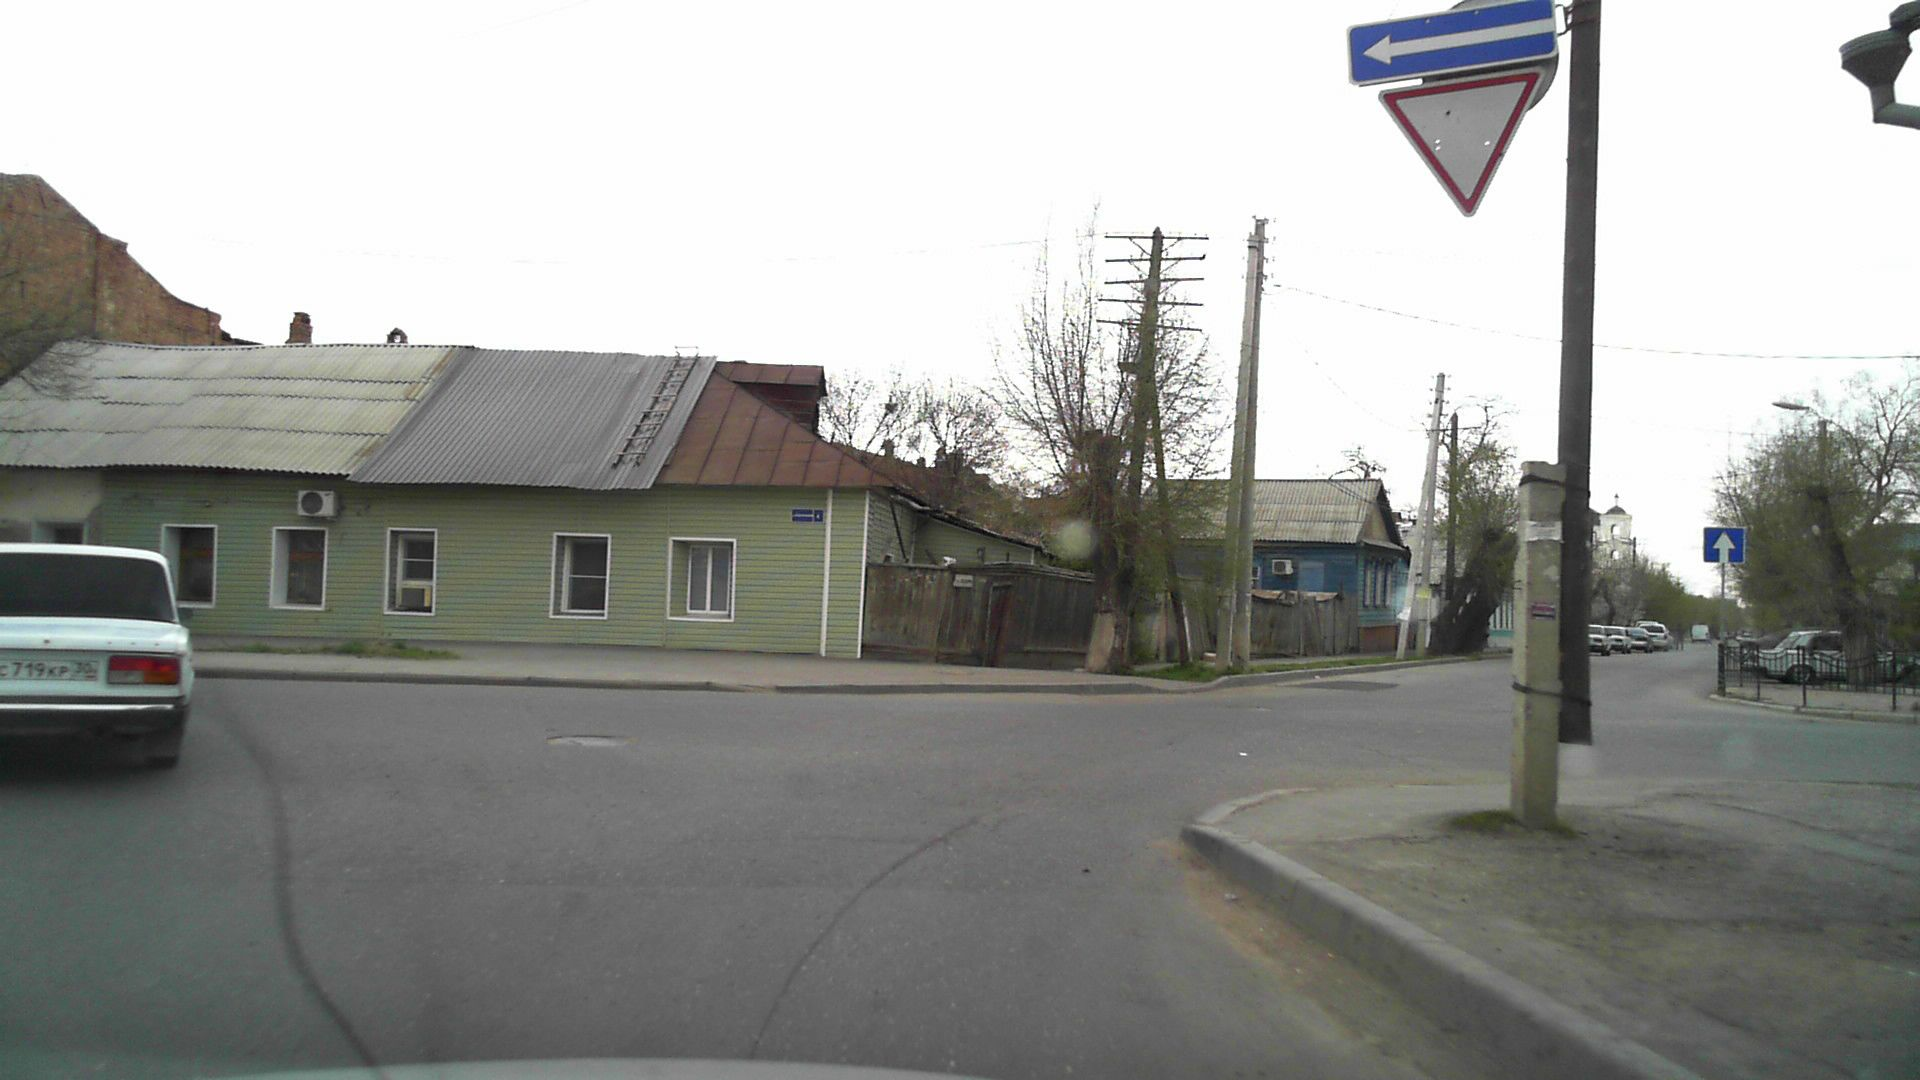One-Way Traffic: (1350, 1, 1556, 78)
